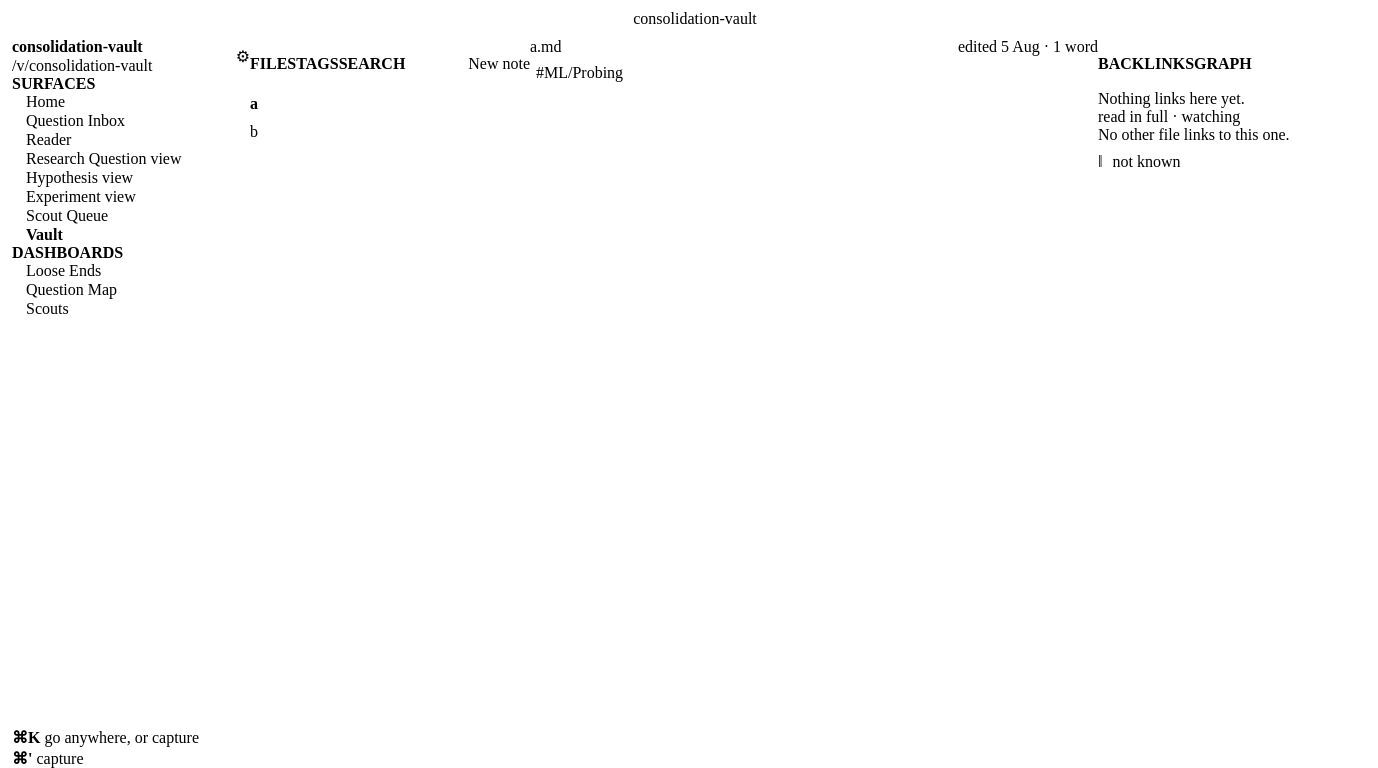
Scenario: a tag › opens the tags tab on its node, listing the files that carry it
Click the field labelled "#ML/Probing" at (580, 72), box 536,64 -> 623,81
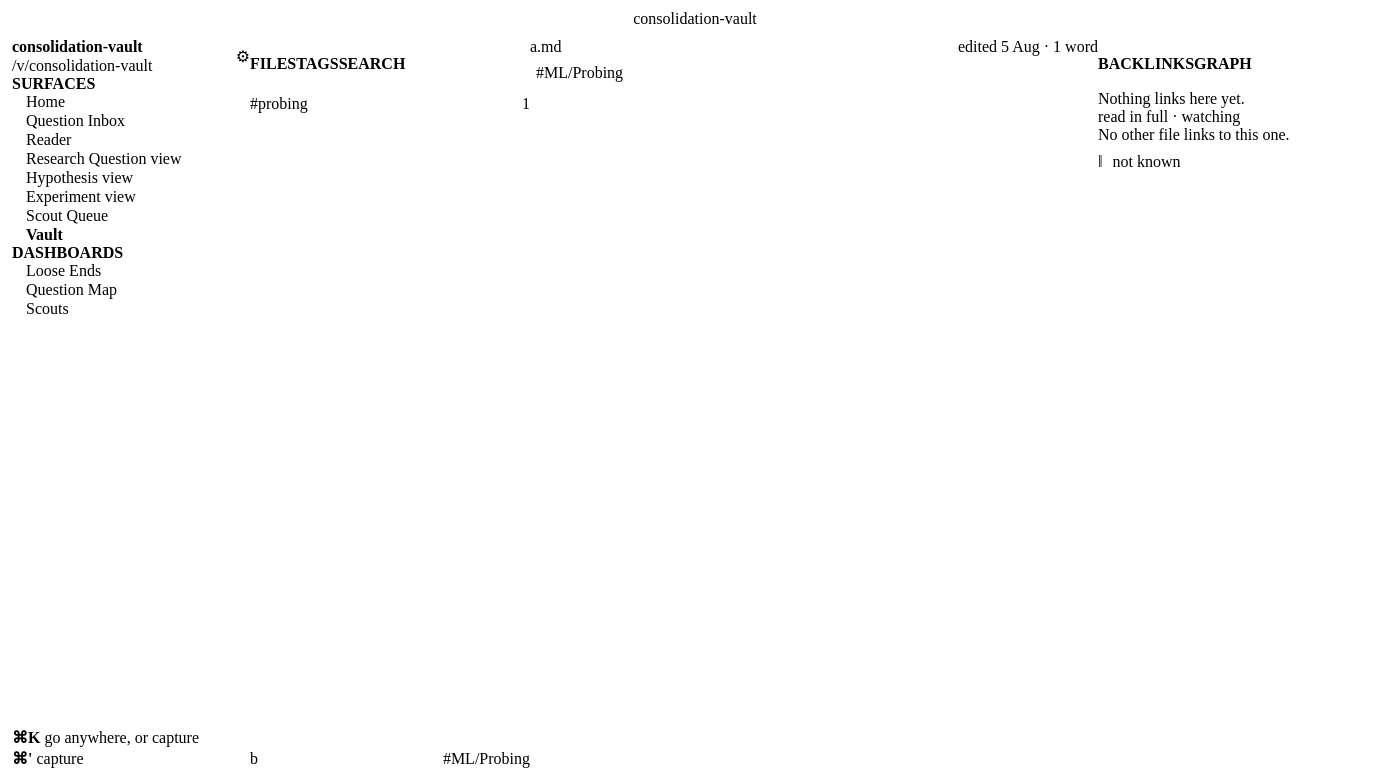
Expected: the list named "Files tagged ml/probing" is shown, 250,750 -> 530,767
